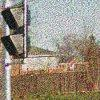traffic lights: (2, 2, 32, 61)
